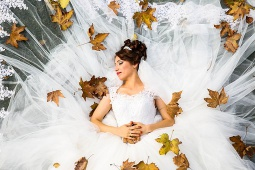female: (111, 45, 150, 86)
